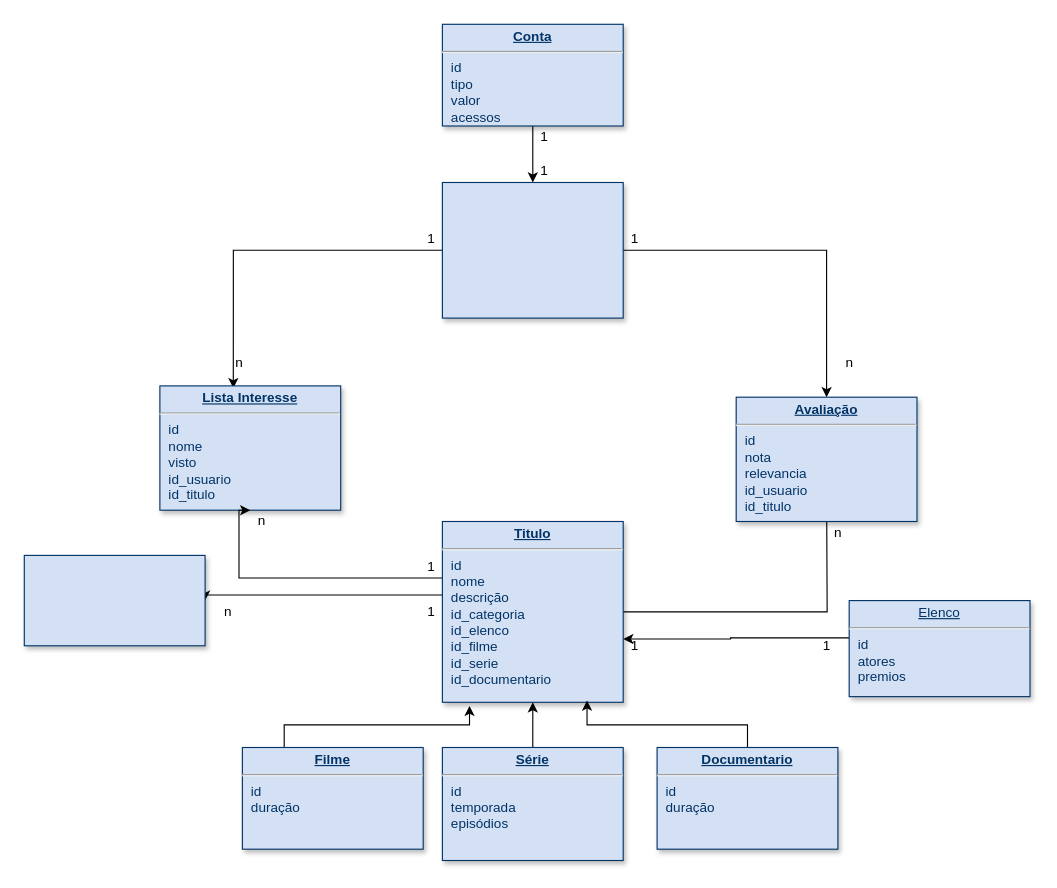
The diagram is 1057 pixels wide and 888 high, and some of its shapes have lost their labels. The centre of each missing label's shape, as x and y in pixels:
Categoria id nome descrição: (115,602)
Usuário id id_conta nome email senha status: (533,251)
